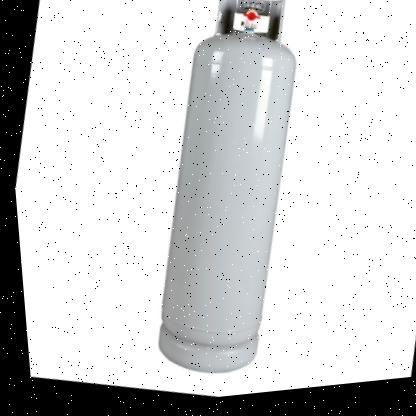gas-tank: (86, 0, 361, 408)
